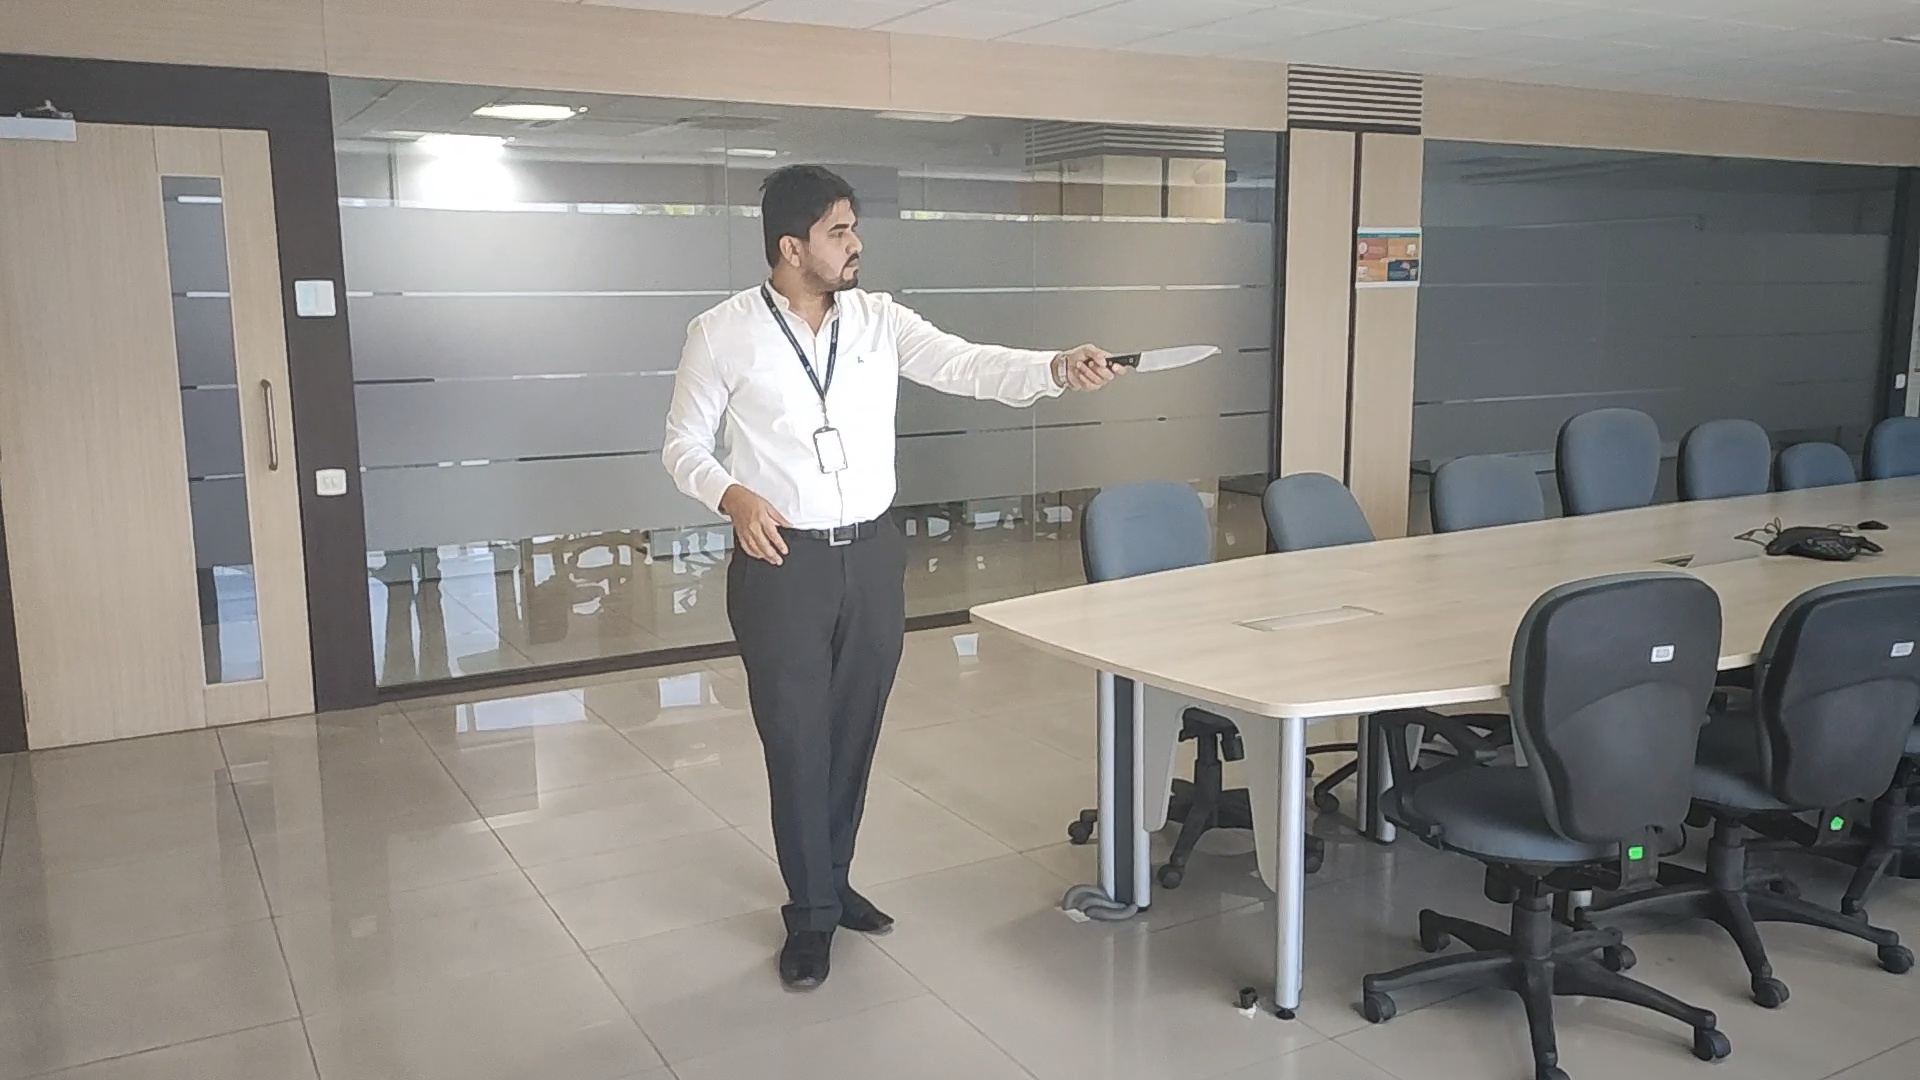knife: (1127, 344, 1221, 375)
